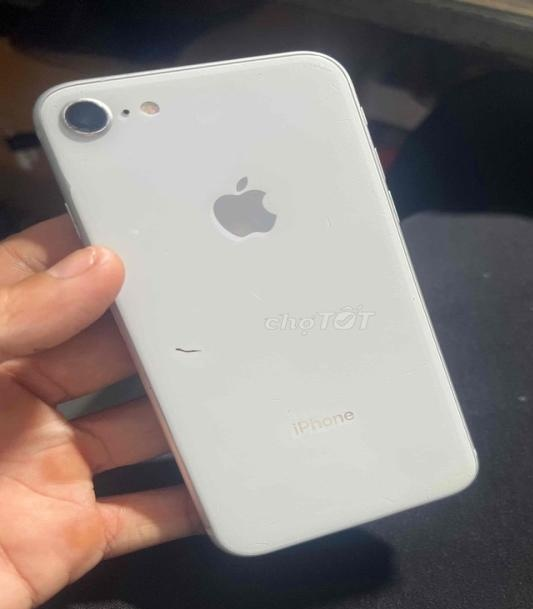scratch: (61, 95, 112, 141), (117, 201, 164, 243), (167, 338, 212, 363)
